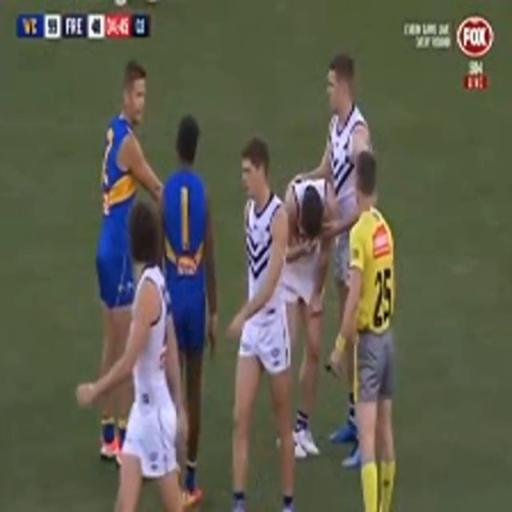nao-violencia: (259, 32, 398, 348)
